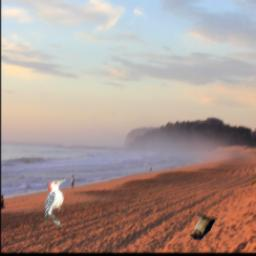Swallow: (190, 214, 217, 240)
Woodpecker: (45, 179, 68, 228)
